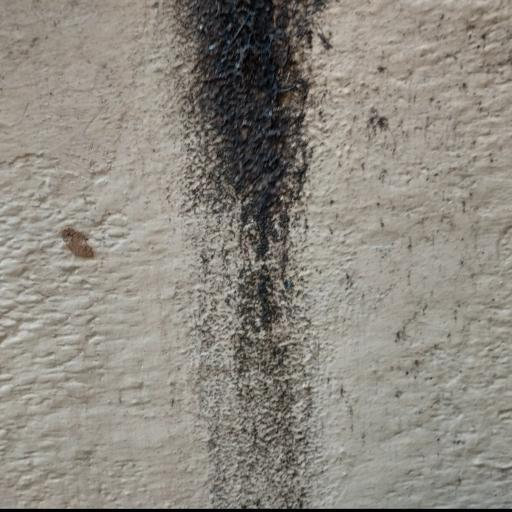stain: (144, 0, 346, 512), (348, 14, 500, 446), (46, 214, 97, 281)
